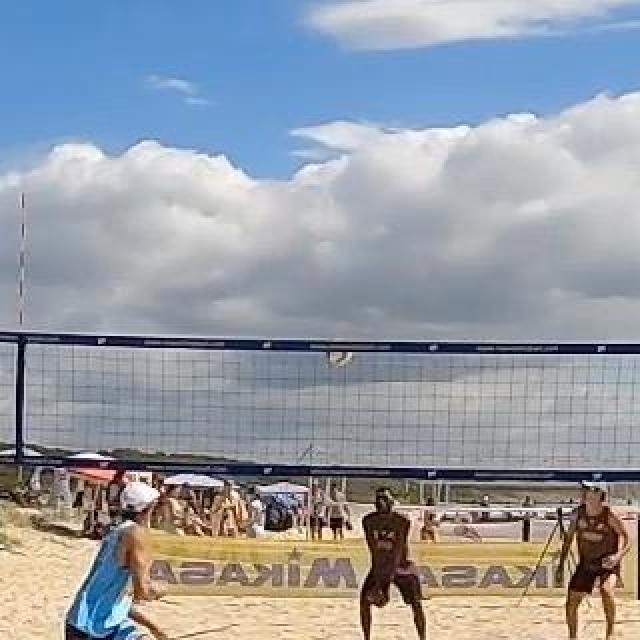volleyball: (326, 339, 354, 367)
